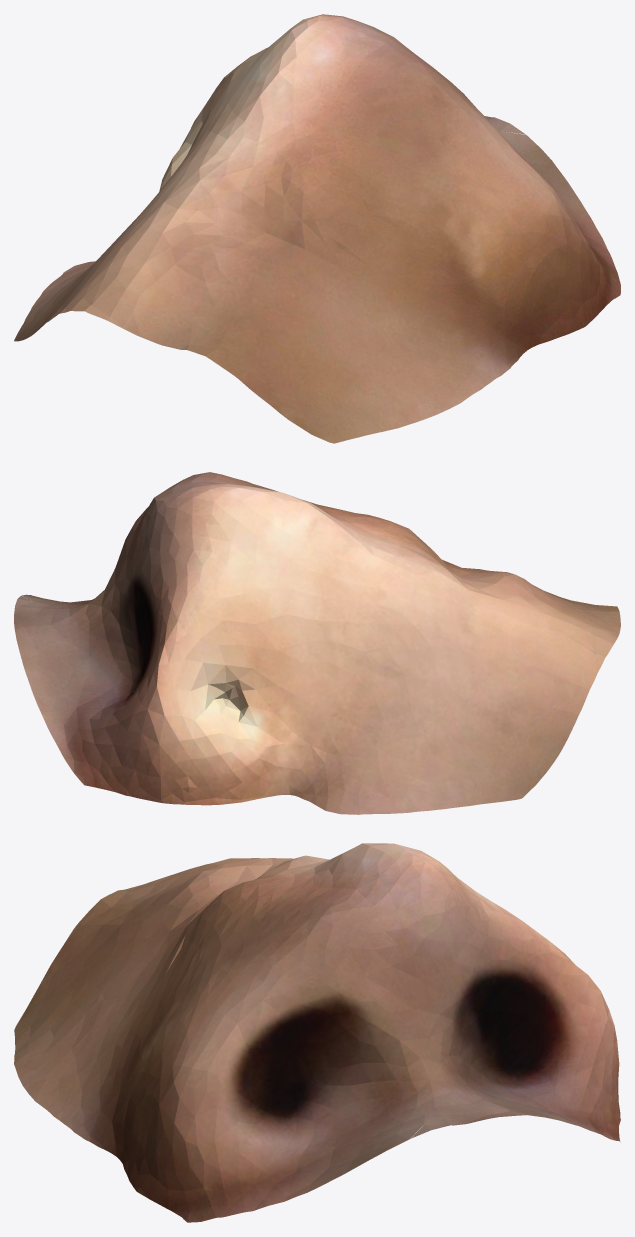
The model's file is nosey-fixed.glb.
The picture shows the model from 3 angles, top to bottom: view 1: azimuth 30°, elevation 25°; view 2: azimuth 150°, elevation 25°; view 3: azimuth 270°, elevation 25°; orthographic projection. The views are drawn at different scales.
Bounding box in the file's own units: 0.0616 × 0.0269 × 0.0563.
Materials: 1 (1 with a texture image).
